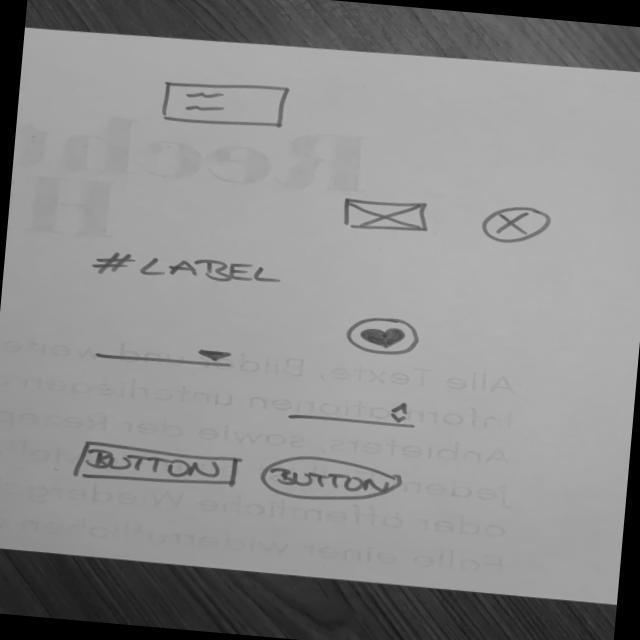button: (69, 439, 246, 495), (253, 451, 408, 511)
icon-button: (342, 313, 426, 360)
image: (339, 196, 435, 239), (477, 203, 556, 249)
label: (89, 248, 286, 292)
number-input: (282, 390, 423, 433)
select: (93, 337, 239, 373)
textarea: (156, 74, 296, 136)
